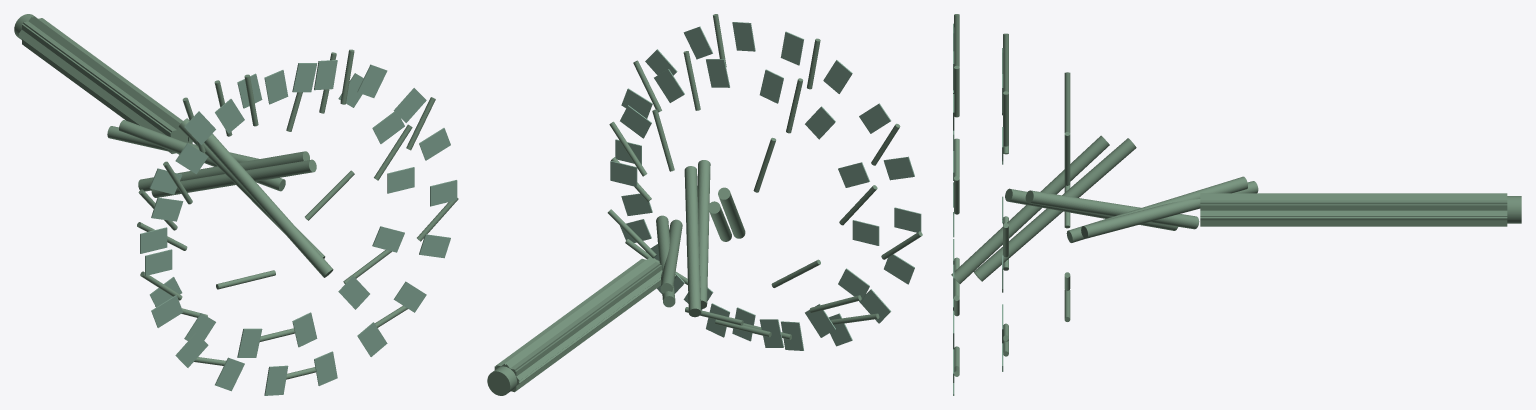
File: SM_Yilan_Diudiudang_SteelTree_14m_HQ.glb
The picture shows the model from 3 angles, left to right: view 1: azimuth 30°, elevation 25°; view 2: azimuth 150°, elevation 25°; view 3: azimuth 270°, elevation 25°; orthographic projection. The views are drawn at different scales.
Parts seen in each view (by area): view 1: branch_5, trunk_rib_2.36, trunk_rib_1.57, trunk_rib_3.14, branch_3, branch_1, branch_2, branch_4, branch_0, leaf_panel_1_10, leaf_panel_1_3, leaf_panel_2_4 (+31 smaller); view 2: trunk_rib_2.36, branch_2, trunk_rib_3.14, trunk_rib_1.57, branch_3, branch_1, branch_0, trunk, branch_5, leaf_panel_1_7, leaf_panel_1_0, leaf_panel_2_9 (+30 smaller); view 3: trunk_rib_0.79, trunk_rib_0.00, branch_4, branch_5, branch_2, trunk_rib_1.57, branch_0, trunk_rib_5.50, branch_1, branch_3, trunk_rib_2.36, trunk_rib_4.71.
Boxes of the visible parts, x1,y1,x2,y2 form: branch_5: (204,133,333,277); trunk_rib_2.36: (18,17,180,138); trunk_rib_1.57: (23,18,182,134); trunk_rib_3.14: (22,24,172,152); branch_3: (151,159,316,197); branch_1: (119,120,285,191); branch_2: (138,151,309,191); branch_4: (178,118,325,258); branch_0: (107,126,258,162); leaf_panel_1_10: (237,328,262,357); leaf_panel_1_3: (292,63,317,92); leaf_panel_2_4: (314,60,337,90); trunk_rib_2.36: (504,258,662,382); branch_2: (684,166,701,317); trunk_rib_3.14: (513,265,661,390); trunk_rib_1.57: (496,258,660,373); branch_3: (697,160,710,308); branch_1: (660,219,682,293); branch_0: (656,215,675,307); trunk: (487,366,516,395); branch_5: (718,187,745,238); leaf_panel_1_7: (852,220,879,245); leaf_panel_1_0: (610,161,637,186); leaf_panel_2_9: (894,207,921,232); trunk_rib_0.79: (1200,194,1507,216); trunk_rib_0.00: (1200,204,1507,225); branch_4: (974,138,1136,281); branch_5: (951,135,1109,283); branch_2: (1025,190,1199,229); trunk_rib_1.57: (1200,193,1507,204); branch_0: (1081,181,1258,238); trunk_rib_5.50: (1200,216,1507,220); branch_1: (1066,176,1247,242); branch_3: (1005,188,1177,230); trunk_rib_2.36: (1200,193,1507,194); trunk_rib_4.71: (1200,225,1507,226).
Bounding box in the file's own units: 9.24 × 9.08 × 13.94.
